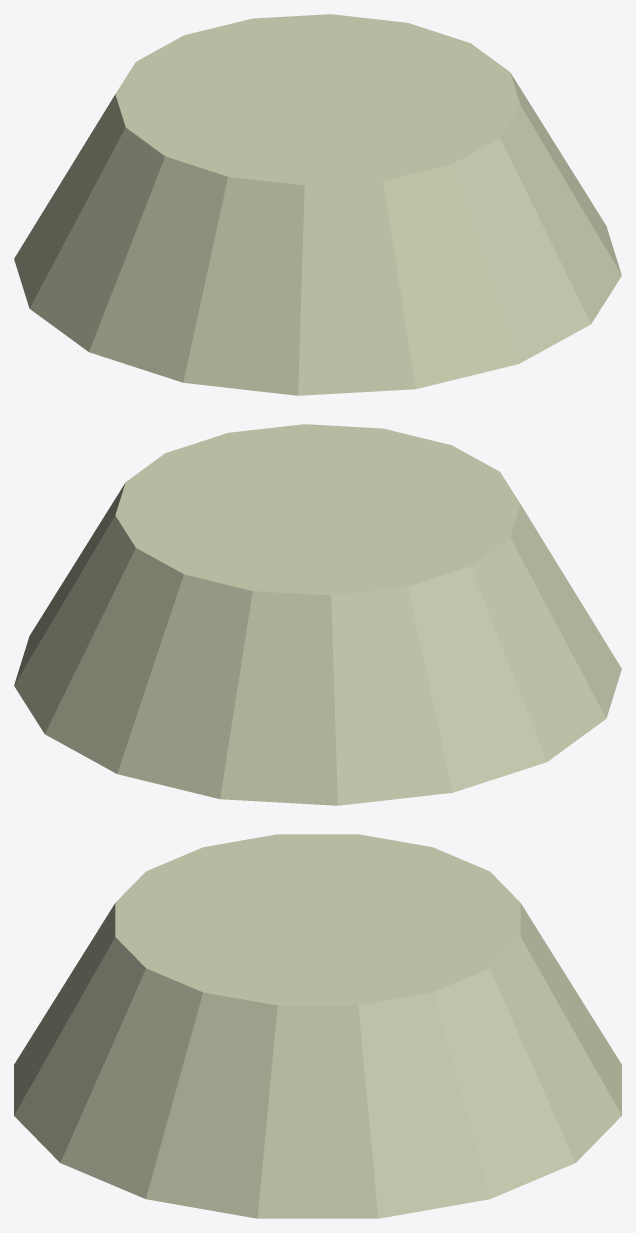
The model's file is Auriga_Parachute_1_Collider.obj.
The picture shows the model from 3 angles, top to bottom: view 1: azimuth 30°, elevation 25°; view 2: azimuth 150°, elevation 25°; view 3: azimuth 270°, elevation 25°; orthographic projection.
Parts seen in each view (by area): view 1: Auriga_Parachute_1_Collider; view 2: Auriga_Parachute_1_Collider; view 3: Auriga_Parachute_1_Collider.
Part boxes in pixels (x1,y1,x2,y2): Auriga_Parachute_1_Collider: (14,14,621,395); Auriga_Parachute_1_Collider: (14,424,621,805); Auriga_Parachute_1_Collider: (14,834,621,1218).
Size of the model in its own units: 0.9375 by 0.29 by 0.9375.
